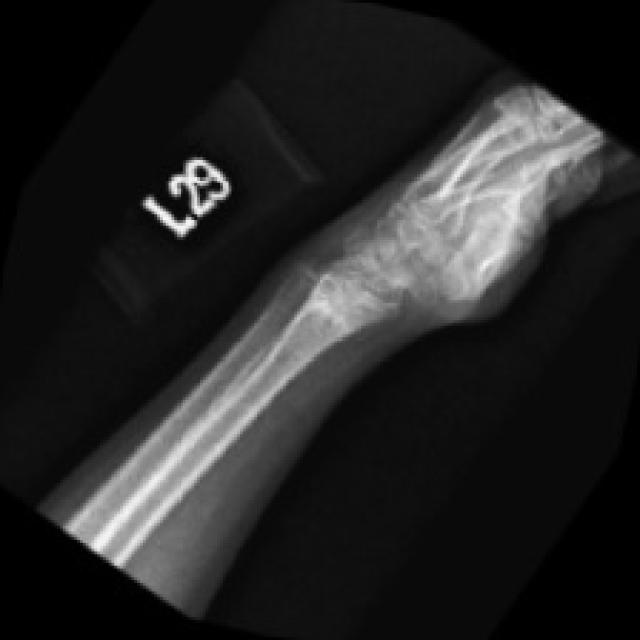fracture: (273, 186, 384, 292)
